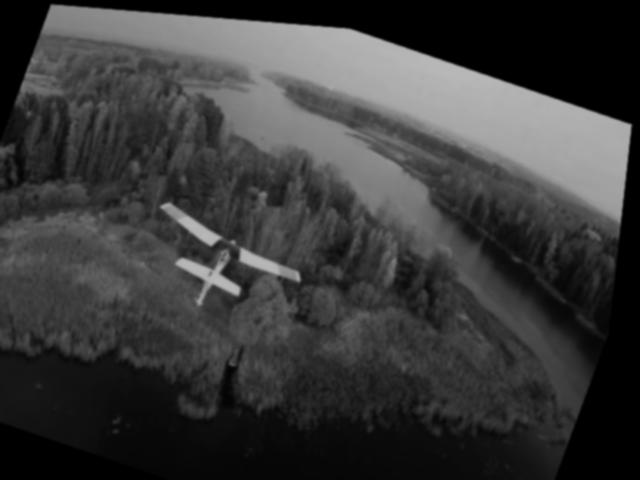hedef: (130, 184, 328, 331)
